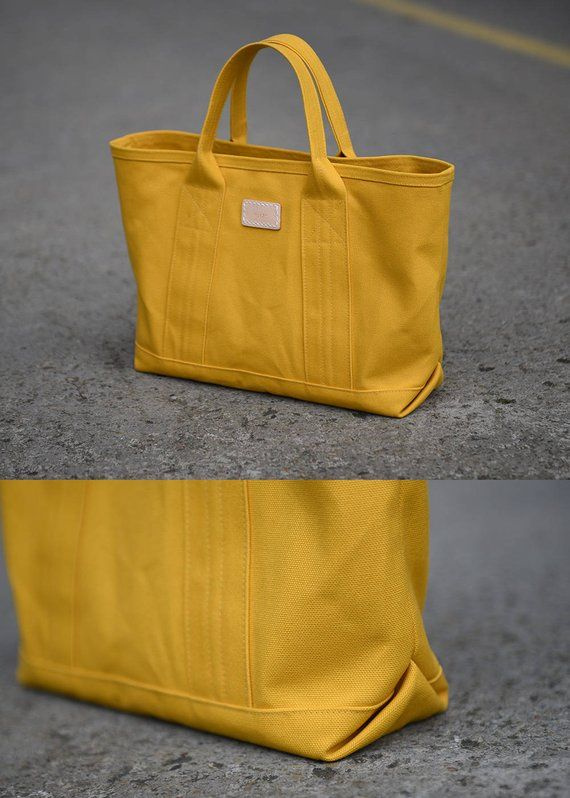nylon: (1, 34, 455, 764)
